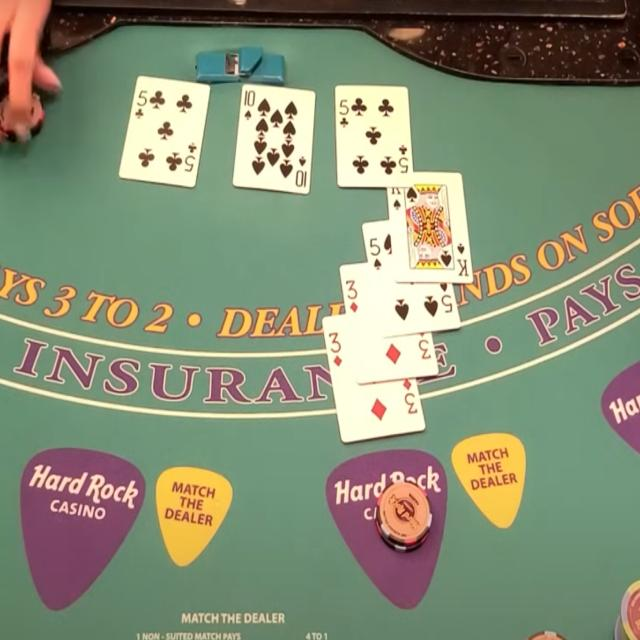10: (243, 86, 256, 109)
3: (326, 330, 343, 354), (344, 277, 360, 300)
5: (368, 235, 383, 258), (336, 95, 351, 118), (136, 86, 148, 107)
K: (390, 187, 401, 196)
